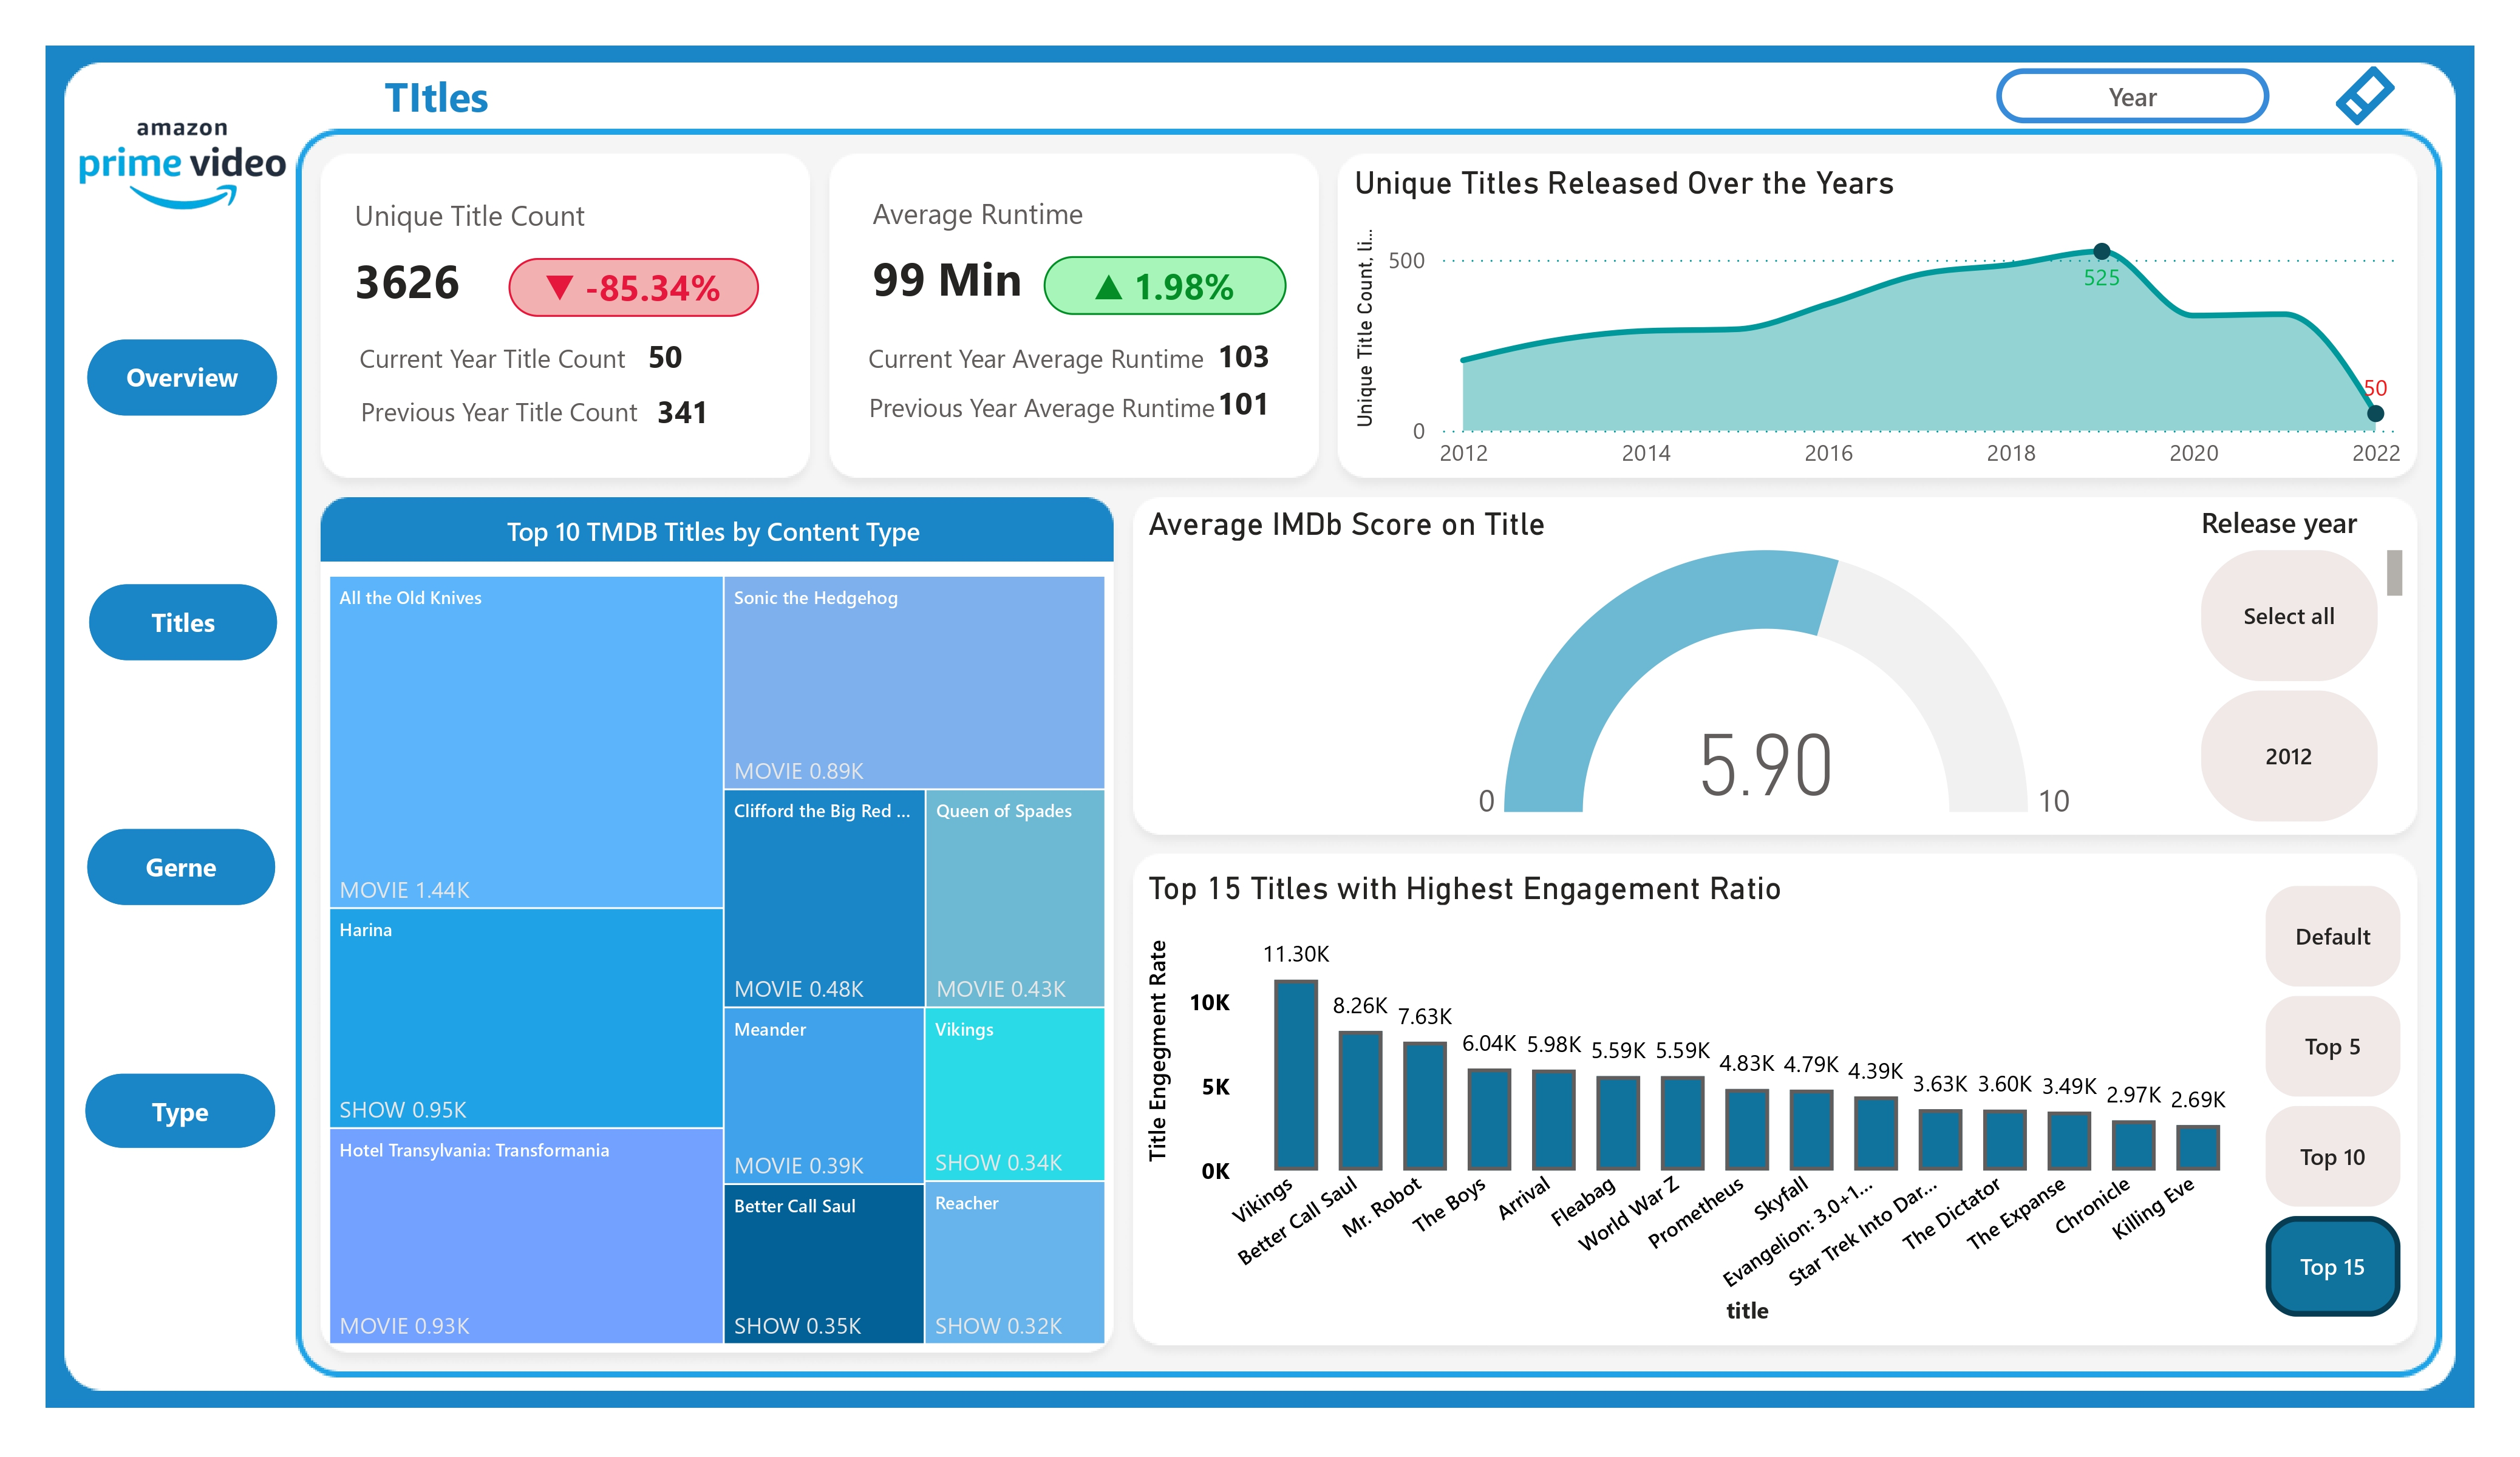

Layout of this report page (visuals, bound fields, positions):
{"tool":"powerbi","page":{"name":"Titles Page","canvas":[1280,720],"ordinal":1},"visuals":[{"type":"shape","box":[136.1,4.8,139.7,41.1],"z":0,"group":"g4"},{"type":"actionButton","title":"YEAR ","box":[1028,12,143.7,29],"z":0,"group":"g8"},{"type":"cardVisual","fields":{"Data":["DAX Formulas.Avg Runtime for Card"]},"box":[419.7,60.4,244.7,170.8],"z":0,"group":"g2"},{"type":"lineChart","title":"Unique Titles Released Over the Years","fields":{"Category":["Time Table.release_years"],"Y":["DAX Formulas.Unique Title Count","DAX Formulas.line max point Title","DAX Formulas.line min point title"]},"box":[685.7,60.9,561,171.8],"z":0,"group":"g3"},{"type":"cardVisual","fields":{"Data":["DAX Formulas.Unique_Title_Count"]},"box":[146.3,61.2,253.8,170],"z":0,"group":"g1"},{"type":"shape","title":"Color Shape","box":[527,110.5,127.3,31.2],"z":0,"group":"g6"},{"type":"gauge","title":"Average IMDb Score on Title ","fields":{"MaxValue":["DAX Formulas.Max Imdb Value title page"],"Y":["DAX Formulas.Average IMDb Score"],"MinValue":["DAX Formulas.Min Imdb Value title page"]},"box":[576.6,241.1,669.9,171.9],"z":0,"group":"g9"},{"type":"treemap","fields":{"Group":["StreamingData.title"],"Values":["DAX Formulas.Average TMDB Popularity"],"Details":["StreamingData.type"]},"box":[145.5,274,418.4,413.9],"z":0,"group":"g7"},{"type":"columnChart","fields":{"Category":["StreamingData.title"],"Y":["DAX Formulas.Title Engegement Rank"]},"box":[576.6,428.8,589.2,249.5],"z":0,"group":"g10"},{"type":"actionButton","title":"All clear","box":[1202.6,6.5,58.7,38.9],"z":1000,"group":"g8"},{"type":"group","id":"g1","title":"Title page Unique Card Count","box":[146.3,61.2,253.8,170],"z":1000,"group":"g3"},{"type":"card","title":" Delta % ","fields":{"Values":["DAX Formulas.PY format Runtime"]},"box":[506.7,109.2,167.1,37],"z":1000,"group":"g6"},{"type":"shape","title":"Color Shape","box":[244.4,111,132,31.1],"z":1000,"group":"g1"},{"type":"card","fields":{"Values":["DAX Formulas.current year Avg runtime"]},"box":[608.1,148.1,53.4,33.4],"z":1000,"group":"g2"},{"type":"shape","box":[145.9,238.3,413.4,33.1],"z":1000,"group":"g7"},{"type":"advancedSlicerVisual","title":"Release year","fields":{"Values":["Time Table.release_years"]},"box":[1131.4,240,115.7,173.1],"z":1000,"group":"g9"},{"type":"advancedSlicerVisual","fields":{"Values":["Rank Table for Title Engegment Rate.Ranking"]},"box":[1165.8,438.2,80.7,239],"z":1000,"group":"g10"},{"type":"group","id":"g2","title":"Title page Average Runtime","box":[419.7,60.4,254.1,170.8],"z":2000,"group":"g3"},{"type":"card","fields":{"Values":["DAX Formulas.current year Title Count"]},"box":[302,148.8,54.8,32.9],"z":2000,"group":"g1"},{"type":"shape","box":[431.7,149.5,181.7,29.2],"z":2000,"group":"g2"},{"type":"actionButton","title":"Type","box":[21,542.1,99.6,39.3],"z":2000,"group":"g5"},{"type":"shape","box":[154.7,147.2,163,31.9],"z":3000,"group":"g1"},{"type":"shape","box":[433.1,170.4,185.7,37.6],"z":3000,"group":"g2"},{"type":"actionButton","title":"Gerne","box":[21.9,413,98.7,40.2],"z":3000,"group":"g5"},{"type":"actionButton","title":"Titles","box":[23.2,284.1,98.8,40],"z":3250,"group":"g5"},{"type":"group","id":"g3","title":"Charts","box":[145.5,60.4,1101.7,627.5],"z":3500,"group":"g8"},{"type":"actionButton","title":"Overview","box":[21.9,155,100,40.2],"z":3500,"group":"g5"},{"type":"group","id":"g4","title":"Page Name Titles","box":[136.1,4.8,143.2,41.1],"z":3562,"group":"g8"},{"type":"group","id":"g5","title":"Navigation","box":[21,155,101,426.3],"z":3750,"group":"g8"},{"type":"group","id":"g6","title":"Color Group","box":[506.7,109.2,167.1,37],"z":4000,"group":"g2"},{"type":"shape","box":[153.2,174.2,171.6,33.6],"z":4000,"group":"g1"},{"type":"group","id":"g7","title":"Title Page Treemap","box":[145.5,238.3,418.4,449.6],"z":4000,"group":"g3"},{"type":"group","id":"g8","title":"Titles Page","box":[9,4.8,1252.4,683.1],"z":4001},{"type":"image","title":"Amazon Prime Image","box":[9,7,126.9,109.6],"z":4250,"group":"g8"},{"type":"card","fields":{"Values":["DAX Formulas.previous year Avg Runtime"]},"box":[608.1,173.1,53.4,33.4],"z":5000,"group":"g2"},{"type":"card","fields":{"Values":["DAX Formulas.previous year Title Count"]},"box":[311,177.6,55.2,33.6],"z":5000,"group":"g1"},{"type":"group","id":"g9","title":"Title Page Gauge chart","box":[576.6,240,670.6,173.1],"z":5000,"group":"g3"},{"type":"card","title":" Delta % ","fields":{"Values":["DAX Formulas.PY format title count"]},"box":[223.3,109.8,173.3,36.8],"z":6000,"group":"g1"},{"type":"group","id":"g10","title":"Title Page bar chart","box":[576.6,428.8,669.9,249.5],"z":6000,"group":"g3"}]}

Visuals, with their boxes on the page's 1280x720 design canvas (x1, y1, x2, y2). These are canvas units, not pixel positions in the 2520x1457 screenshot, which may show the page scaled, cropped or inside an application window:
shape: Rect(136, 5, 276, 46)
"YEAR " actionButton: Rect(1028, 12, 1172, 41)
cardVisual - DAX Formulas.Avg Runtime for Card: Rect(420, 60, 664, 231)
"Unique Titles Released Over the Years" lineChart: Rect(686, 61, 1247, 233)
cardVisual - DAX Formulas.Unique_Title_Count: Rect(146, 61, 400, 231)
"Color Shape" shape: Rect(527, 110, 654, 142)
"Average IMDb Score on Title " gauge: Rect(577, 241, 1246, 413)
treemap - StreamingData.title x DAX Formulas.Average TMDB Popularity: Rect(146, 274, 564, 688)
columnChart - StreamingData.title x DAX Formulas.Title Engegement Rank: Rect(577, 429, 1166, 678)
"All clear" actionButton: Rect(1203, 6, 1261, 45)
"Title page Unique Card Count" group: Rect(146, 61, 400, 231)
" Delta % " card: Rect(507, 109, 674, 146)
"Color Shape" shape: Rect(244, 111, 376, 142)
card - DAX Formulas.current year Avg runtime: Rect(608, 148, 662, 182)
shape: Rect(146, 238, 559, 271)
"Release year" advancedSlicerVisual: Rect(1131, 240, 1247, 413)
advancedSlicerVisual - Rank Table for Title Engegment Rate.Ranking: Rect(1166, 438, 1246, 677)
"Title page Average Runtime" group: Rect(420, 60, 674, 231)
card - DAX Formulas.current year Title Count: Rect(302, 149, 357, 182)
shape: Rect(432, 150, 613, 179)
"Type" actionButton: Rect(21, 542, 121, 581)
shape: Rect(155, 147, 318, 179)
shape: Rect(433, 170, 619, 208)
"Gerne" actionButton: Rect(22, 413, 121, 453)
"Titles" actionButton: Rect(23, 284, 122, 324)
"Charts" group: Rect(146, 60, 1247, 688)
"Overview" actionButton: Rect(22, 155, 122, 195)
"Page Name Titles" group: Rect(136, 5, 279, 46)
"Navigation" group: Rect(21, 155, 122, 581)
"Color Group" group: Rect(507, 109, 674, 146)
shape: Rect(153, 174, 325, 208)
"Title Page Treemap" group: Rect(146, 238, 564, 688)
"Titles Page" group: Rect(9, 5, 1261, 688)
"Amazon Prime Image" image: Rect(9, 7, 136, 117)
card - DAX Formulas.previous year Avg Runtime: Rect(608, 173, 662, 206)
card - DAX Formulas.previous year Title Count: Rect(311, 178, 366, 211)
"Title Page Gauge chart" group: Rect(577, 240, 1247, 413)
" Delta % " card: Rect(223, 110, 397, 147)
"Title Page bar chart" group: Rect(577, 429, 1246, 678)
